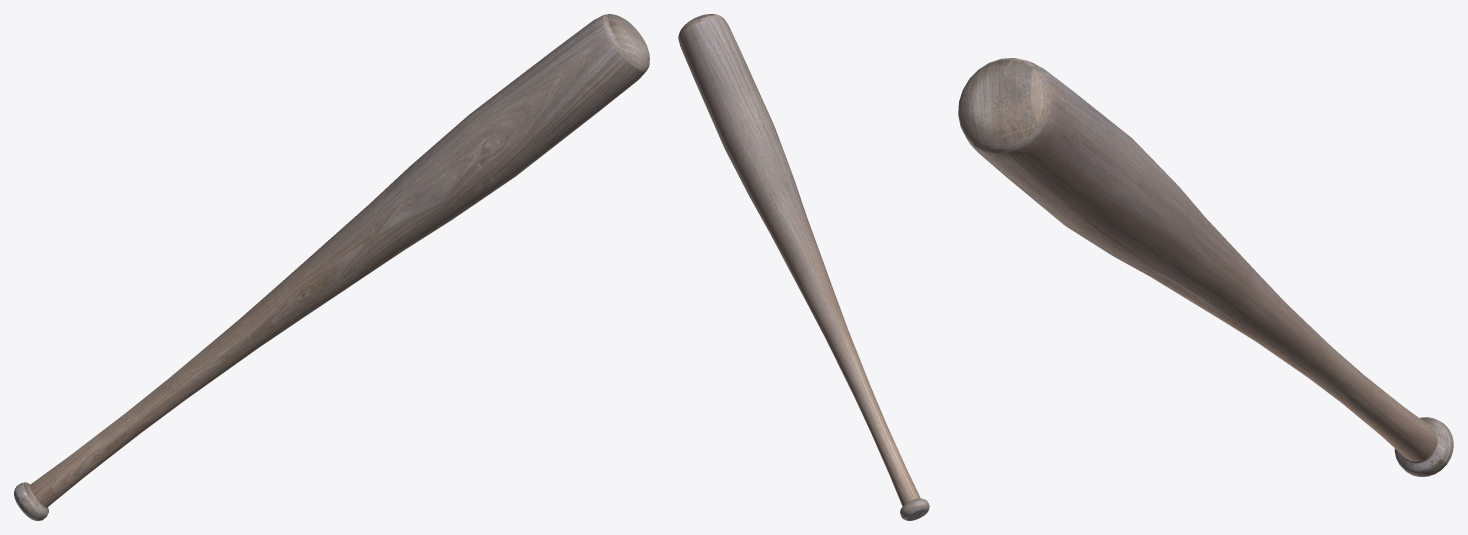
Rendered from 1781169849361-ixarlqi0u9r.glb.
3 views of the same model, side by side, from view 1: azimuth 30°, elevation 25°; view 2: azimuth 150°, elevation 25°; view 3: azimuth 270°, elevation 25° (orthographic). The views are drawn at different scales.
Parts seen in each view (by area): view 1: iG_Baseball_Bat.Shape; view 2: iG_Baseball_Bat.Shape; view 3: iG_Baseball_Bat.Shape.
Part boxes in pixels (x1,y1,x2,y2): iG_Baseball_Bat.Shape: (14,14,649,520); iG_Baseball_Bat.Shape: (678,14,929,520); iG_Baseball_Bat.Shape: (958,58,1453,476).
Size of the model in its own units: 0.5693 by 0.5586 by 0.3524.
6 materials, 6 textured.
